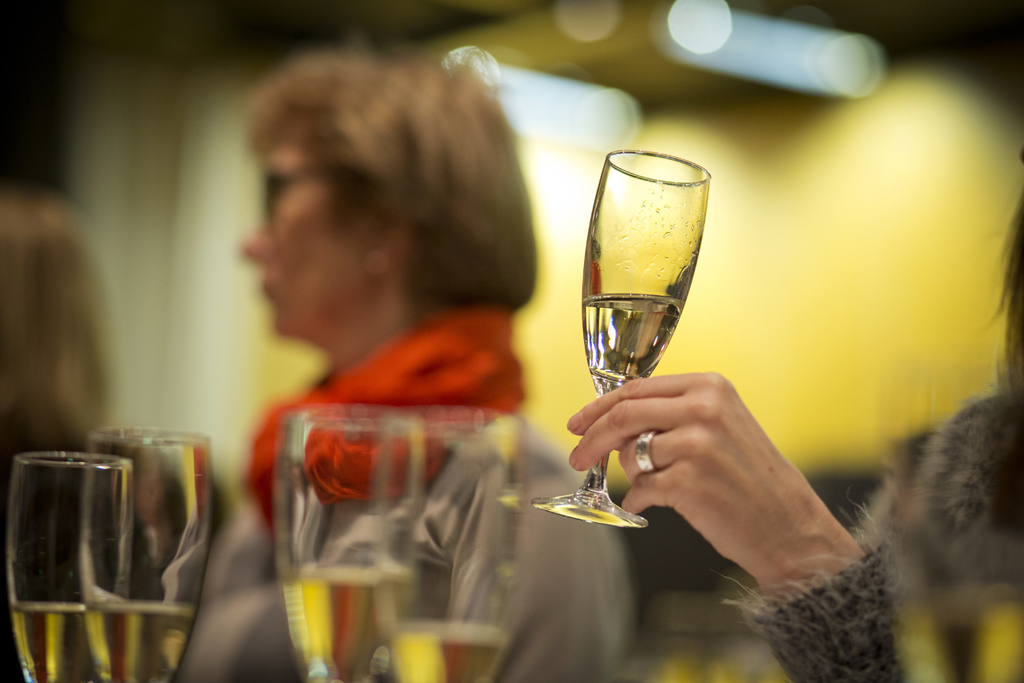Beer: (277, 570, 412, 682), (75, 600, 199, 682), (386, 615, 515, 682), (11, 593, 79, 682)
